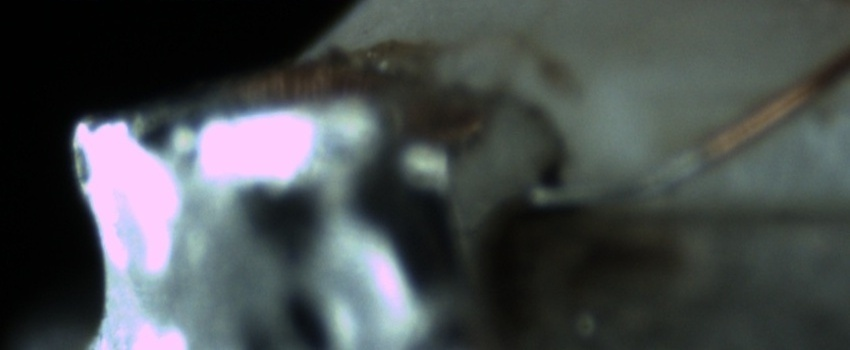TS: (526, 145, 706, 214)
